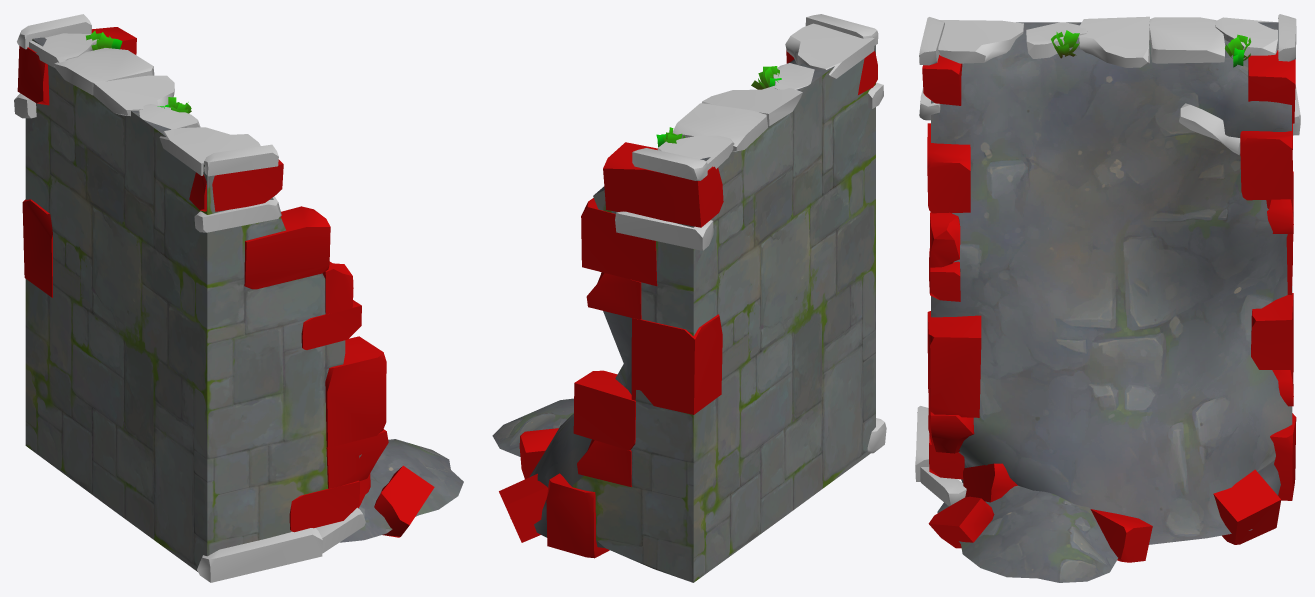
The model's file is Area_MdBuild_SdWall05_05_Group.fbx.
3 renders of one model, left to right at view 1: azimuth 30°, elevation 25°; view 2: azimuth 150°, elevation 25°; view 3: azimuth 270°, elevation 25°, orthographic.
Parts seen in each view (by area): view 1: Area_MdBuild_SdWall05_05_Lod0; view 2: Area_MdBuild_SdWall05_05_Lod0; view 3: Area_MdBuild_SdWall05_05_Lod0, Stages_SGrass22_Vo, Stages_SGrass22_Vo.001.
Part boxes in pixels (x1,y1,x2,y2): Area_MdBuild_SdWall05_05_Lod0: (14,14,463,582); Area_MdBuild_SdWall05_05_Lod0: (492,14,886,582); Area_MdBuild_SdWall05_05_Lod0: (915,14,1300,582); Stages_SGrass22_Vo: (1051,30,1079,58); Stages_SGrass22_Vo.001: (1225,34,1251,67).
Bounding box in the file's own units: 8.05 × 10.68 × 8.54.
